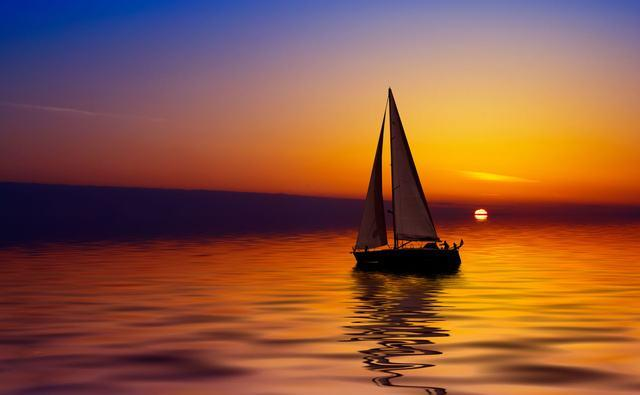fanchuan: (349, 88, 462, 271)
